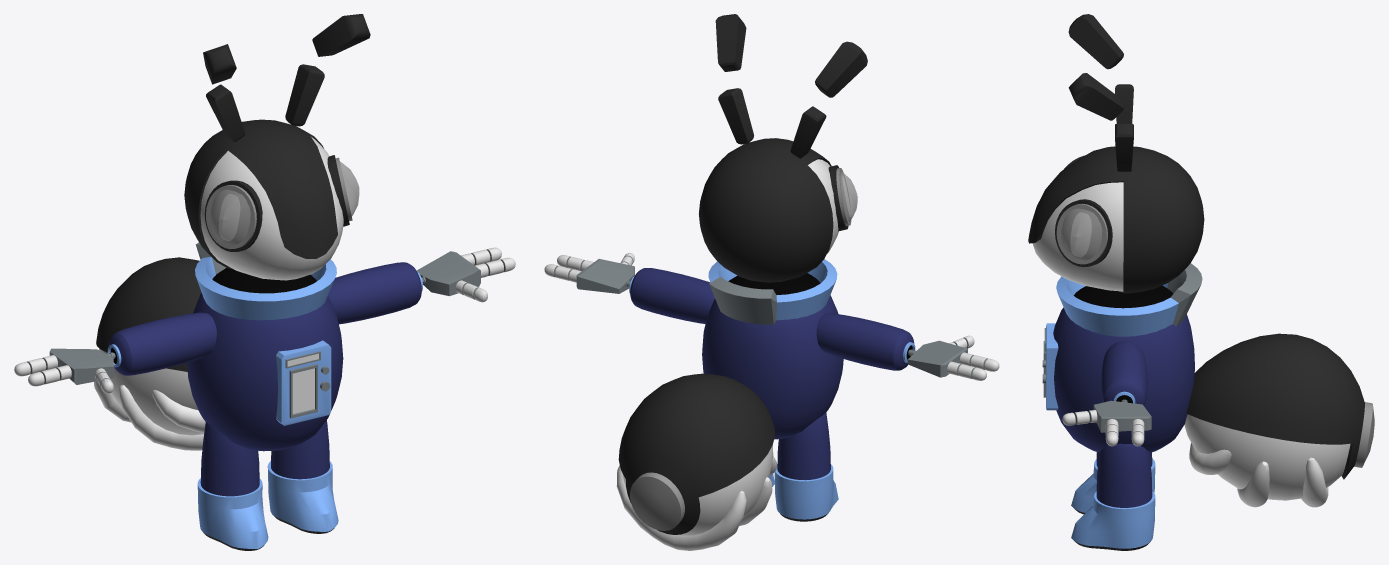
The model's file is Mekkari.fbx.
3 views of the same model, side by side, from view 1: azimuth 30°, elevation 25°; view 2: azimuth 150°, elevation 25°; view 3: azimuth 270°, elevation 25° (orthographic). The views are drawn at different scales.
Parts seen in each view (by area): view 1: Sphere, Sphere.001, Cube.003, Sphere.002, Sphere.008, Sphere.006, Cube, Sphere.007, LentesV2.001, Cube.002, Cube.001, LentesV2 (+1 smaller); view 2: Sphere.001, Sphere, Cube.003, Sphere.002, Sphere.008, Sphere.006, Cube.001, Cube.002, LentesV2.001, Cube; view 3: Sphere.001, Sphere, Cube.003, Sphere.007, Sphere.008, Cube, Cube.001, LentesV2, Cube.002, Sphere.006, Plane.001.
Part boxes in pixels (bbox=[...]): Sphere: bbox=[187, 242, 343, 451]; Sphere.001: bbox=[94, 257, 205, 450]; Cube.003: bbox=[184, 119, 337, 269]; Sphere.002: bbox=[14, 312, 216, 393]; Sphere.008: bbox=[328, 247, 515, 324]; Sphere.006: bbox=[197, 422, 268, 550]; Cube: bbox=[200, 136, 343, 280]; Sphere.007: bbox=[267, 420, 338, 533]; LentesV2.001: bbox=[204, 180, 262, 251]; Cube.002: bbox=[206, 64, 324, 142]; Cube.001: bbox=[203, 14, 370, 84]; LentesV2: bbox=[327, 155, 359, 226]; Sphere.001: bbox=[616, 373, 777, 550]; Sphere: bbox=[702, 259, 843, 439]; Cube.003: bbox=[699, 138, 833, 282]; Sphere.002: bbox=[816, 313, 999, 380]; Sphere.008: bbox=[544, 253, 714, 323]; Sphere.006: bbox=[774, 413, 838, 521]; Cube.001: bbox=[715, 14, 867, 97]; Cube.002: bbox=[718, 88, 826, 158]; LentesV2.001: bbox=[828, 165, 857, 231]; Cube: bbox=[808, 159, 838, 253]; Sphere.001: bbox=[1184, 333, 1374, 507]; Sphere: bbox=[1042, 263, 1202, 452]; Cube.003: bbox=[1028, 146, 1204, 293]; Sphere.007: bbox=[1071, 443, 1155, 550]; Sphere.008: bbox=[1062, 341, 1151, 446]; Cube: bbox=[1032, 182, 1123, 291]; Cube.001: bbox=[1068, 14, 1123, 120]; LentesV2: bbox=[1055, 199, 1112, 266]; Cube.002: bbox=[1115, 84, 1133, 171]; Sphere.006: bbox=[1071, 452, 1155, 514]; Plane.001: bbox=[1070, 212, 1091, 257].
Bounding box in the file's own units: 651 × 656 × 426.
